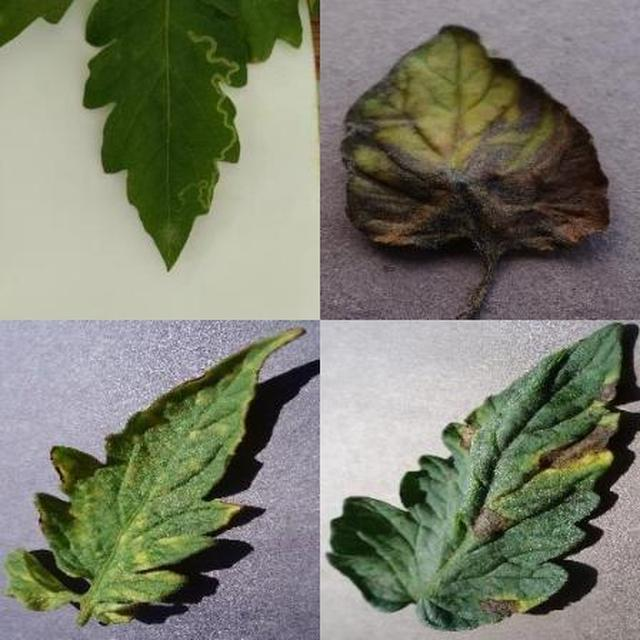Leaf Miner: (221, 196, 640, 640)
